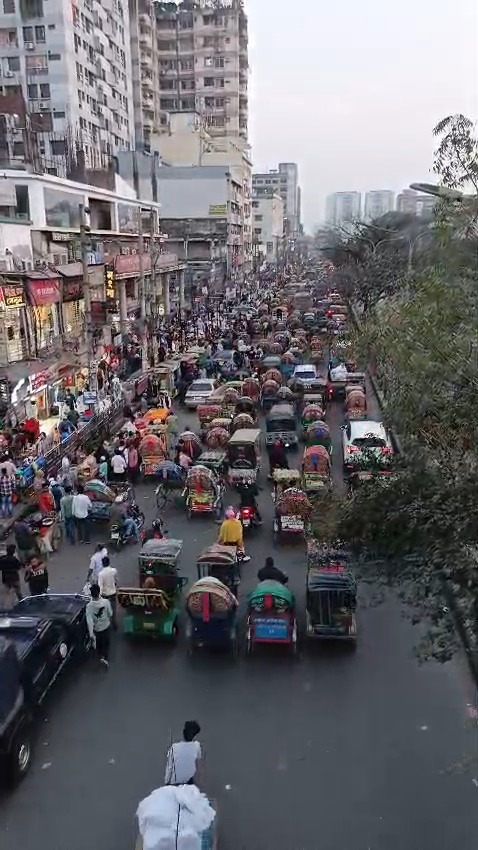auto-ricksaw: (124, 536, 367, 661), (183, 447, 234, 523), (137, 423, 169, 480)
cng: (266, 398, 302, 449)
private car: (340, 416, 393, 476), (181, 370, 217, 409), (291, 362, 321, 386)
